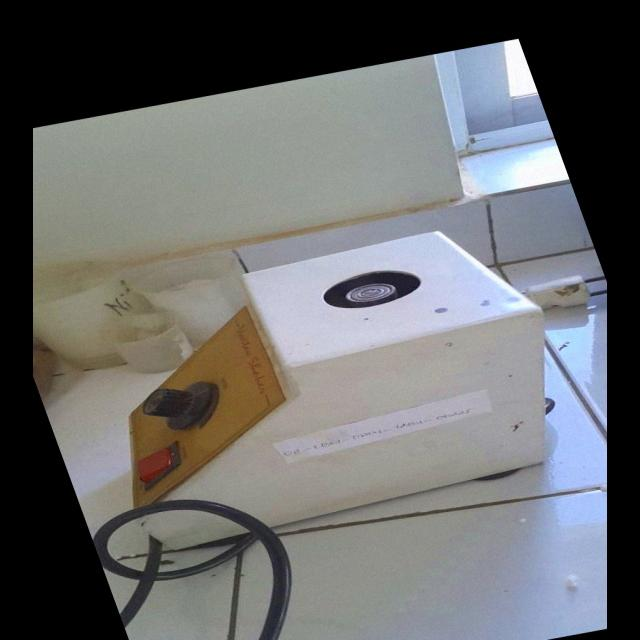Vortex: (45, 213, 600, 547)
